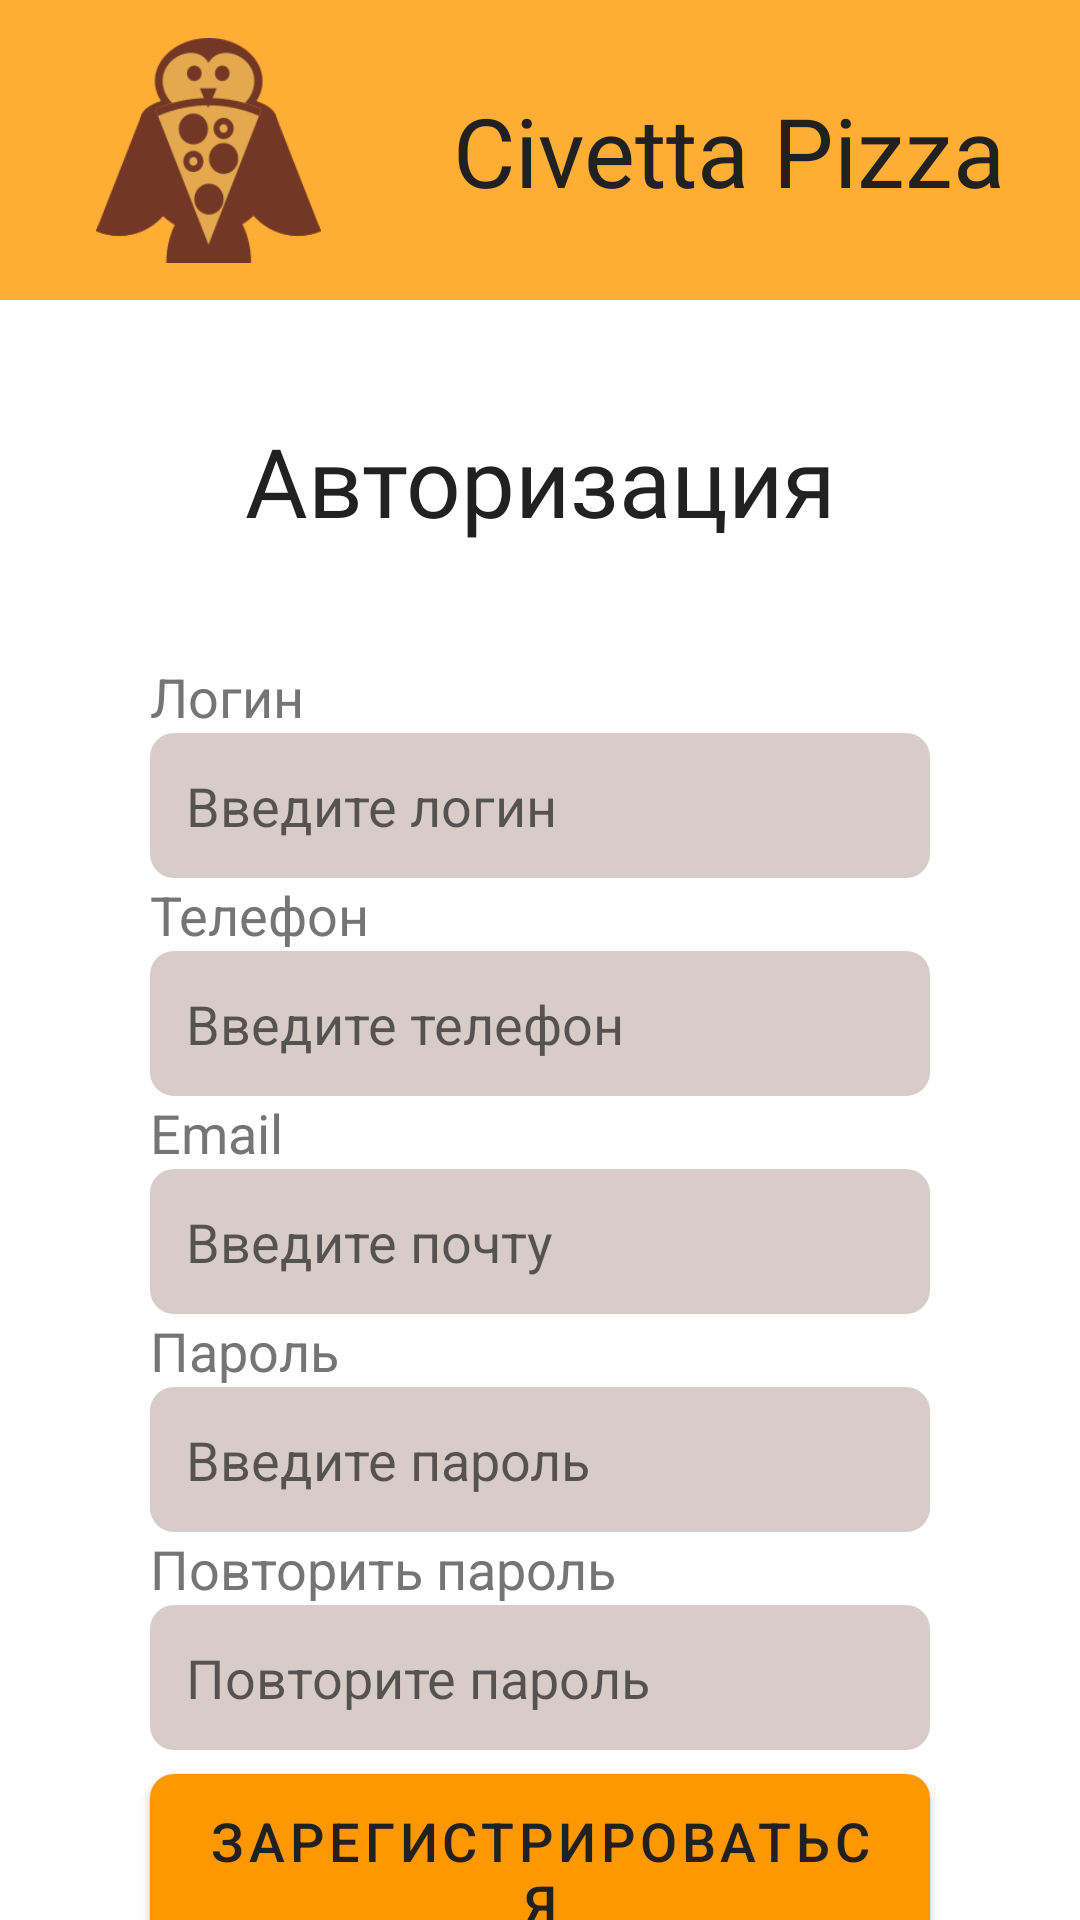

Screen size 1080x1920. Icon name, then its center in pixels as (x=x, y=y):
owl: (x=208, y=150)
